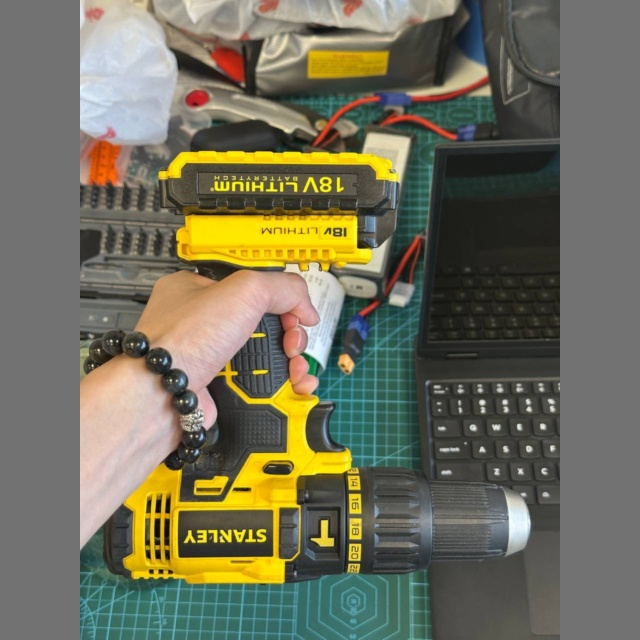drill: (104, 150, 531, 582)
